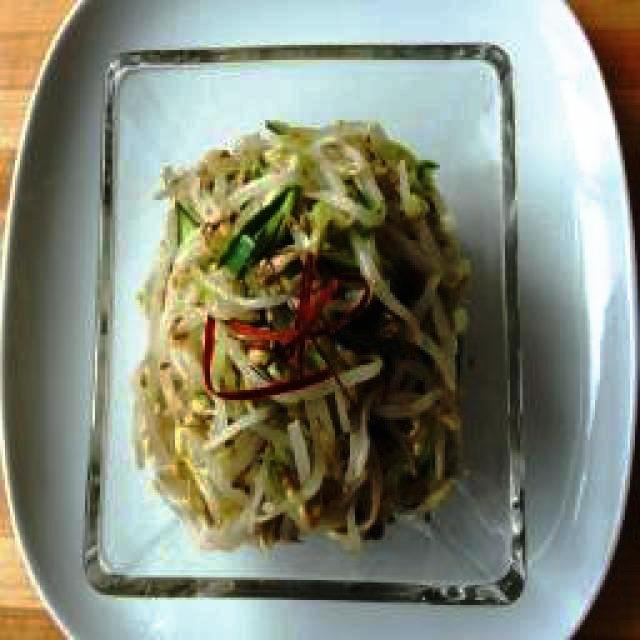mung_bean_sprouts: (155, 126, 466, 541)
